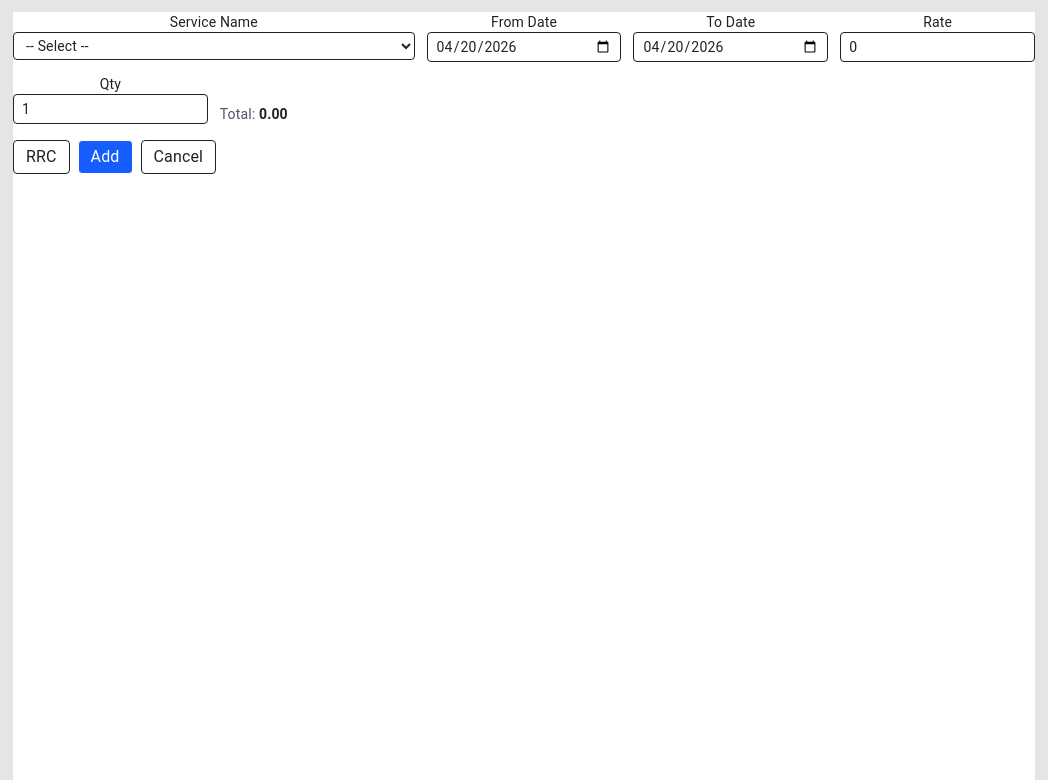
Test: ServiceForm Add › clicking Add without selecting a service shows an error
The width and height of the screenshot is (1048, 780).
Click the button "Add": {"x": 105, "y": 157} [78,140,132,174]
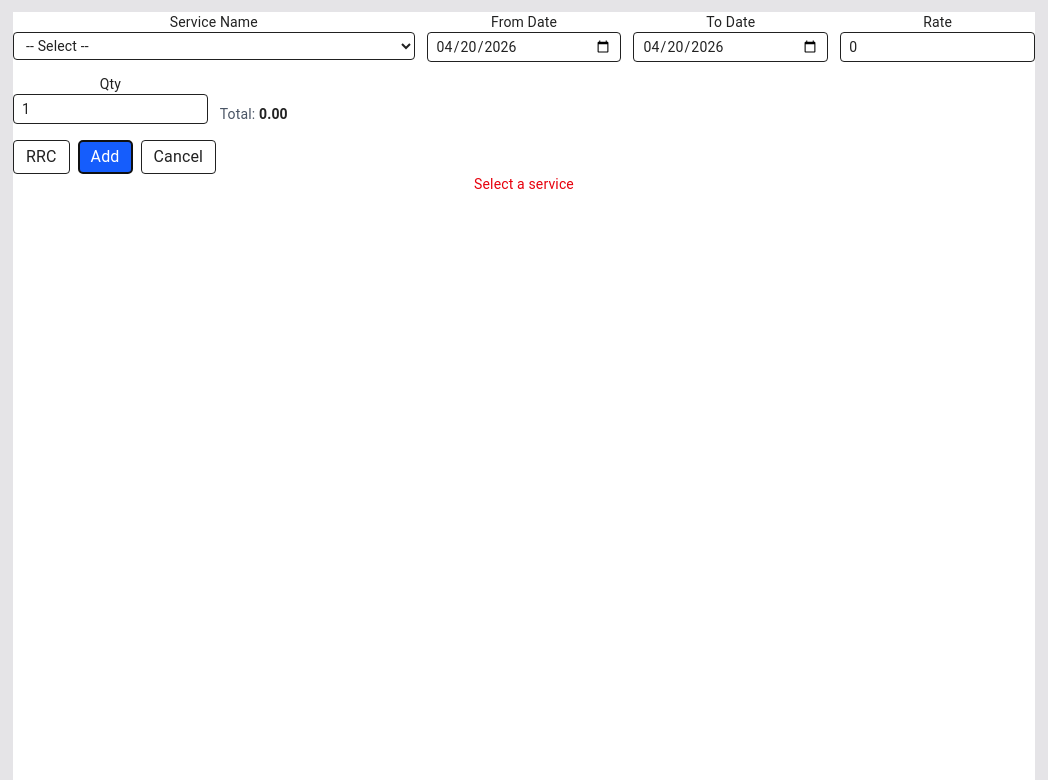
Result: the text "Select a service" is shown at [474,176,574,192]
